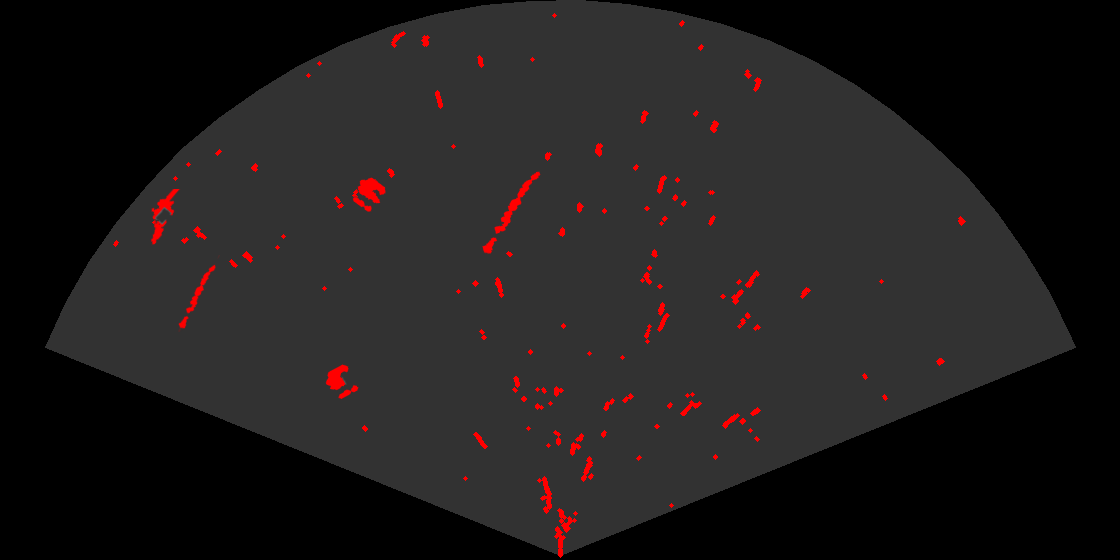ball: (324, 363, 360, 401), (351, 176, 387, 213)
chain: (481, 170, 542, 256), (177, 255, 220, 332)
frogman: (149, 189, 182, 247)
